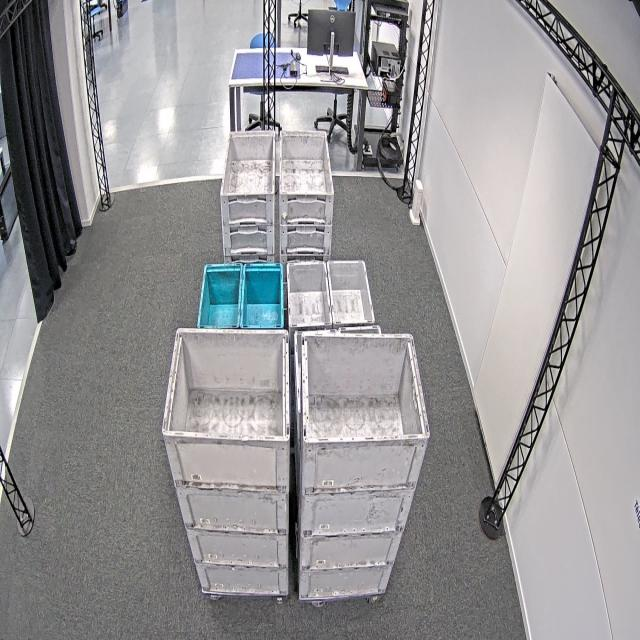Roll3G: (219, 129, 276, 197), (279, 130, 335, 198)
Roll4G: (161, 327, 291, 442), (302, 330, 431, 445)
Roll8G: (293, 325, 383, 415), (287, 260, 375, 328)
RollB8: (196, 263, 285, 329)
